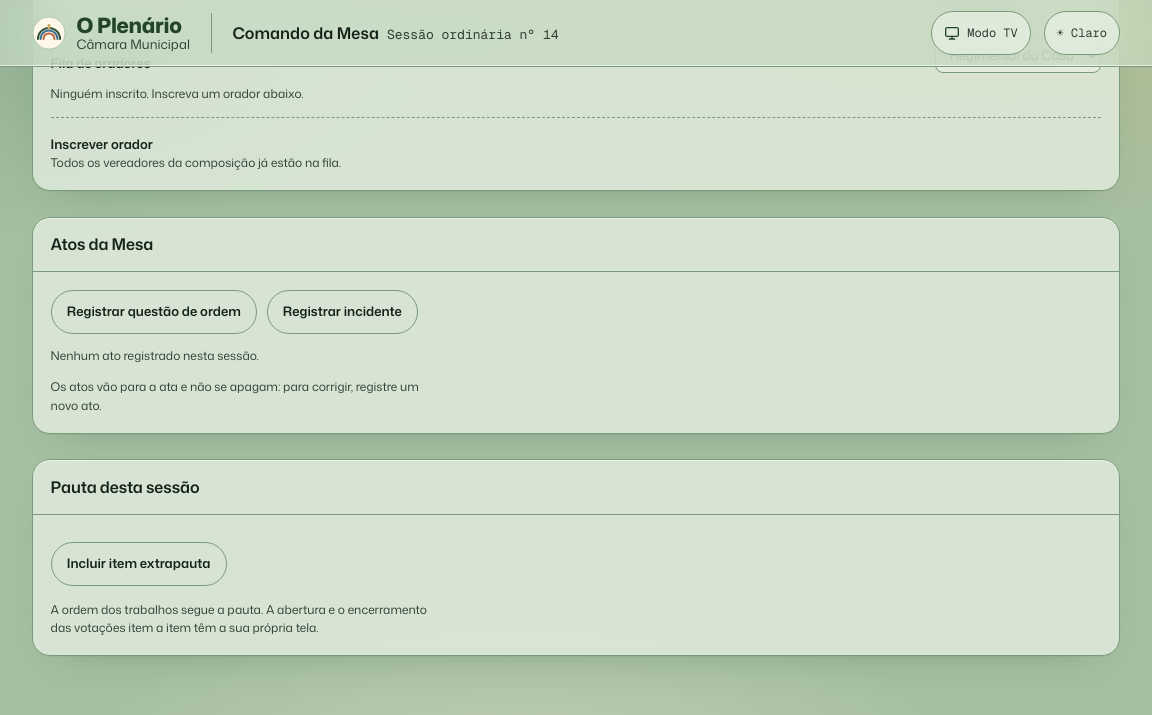
Test: Comando da Mesa — item extrapauta (docs/23) › sessão aberta: inclui um item de texto extrapauta na ordem do dia e avisa
(page scrolled)
Click the button "Incluir item extrapauta" at (139,564), box [51, 542, 227, 586]
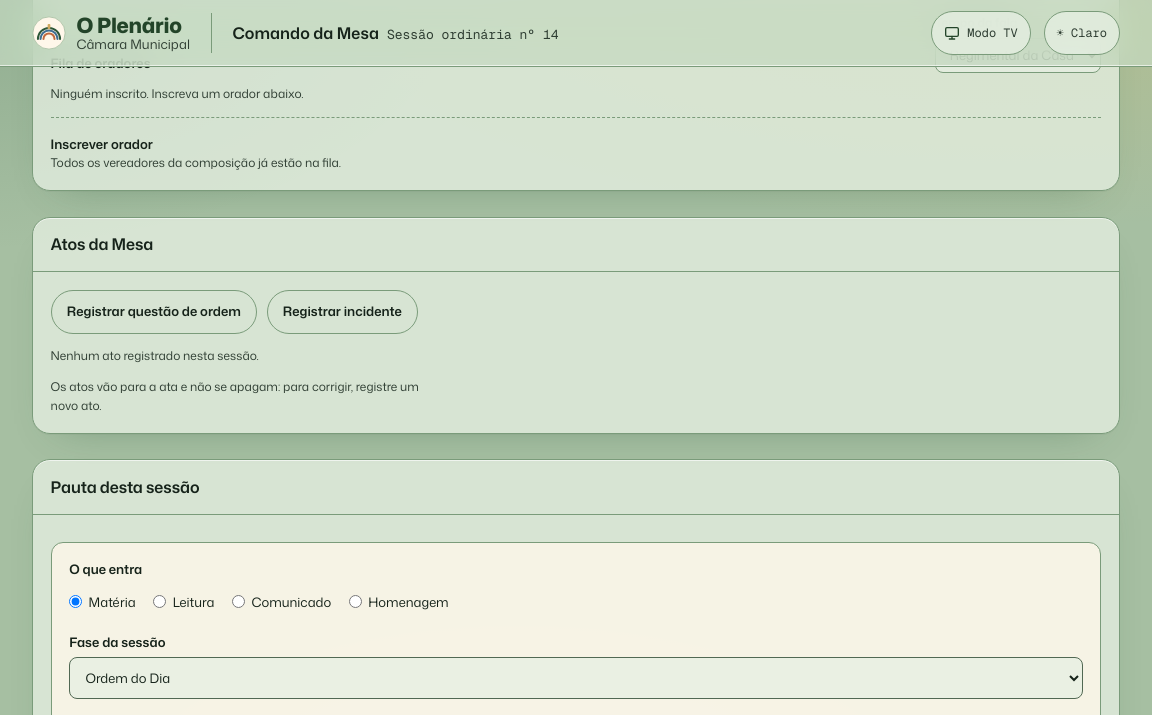
Click the radio button labelled "Homenagem" at (355,602), box [349, 595, 362, 608]
(page scrolled)
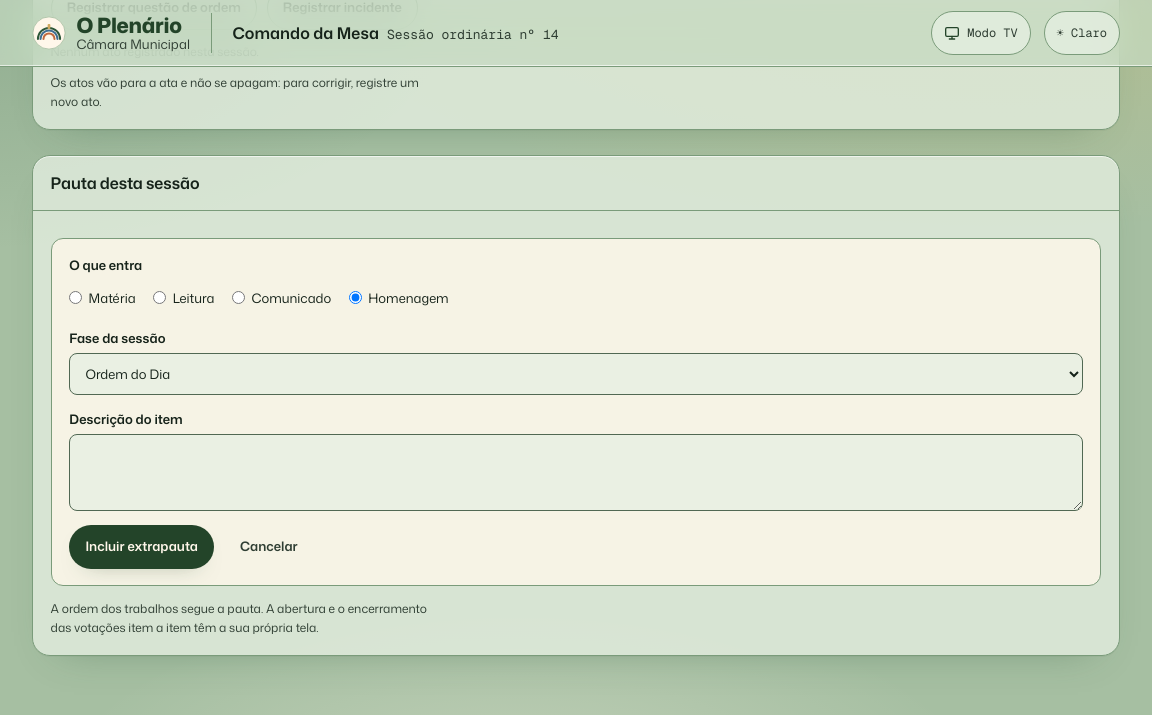
Type "Homenagem aos 100 anos da escola" into the text box labelled "Descrição do item" at (576,472), box [69, 434, 1083, 510]
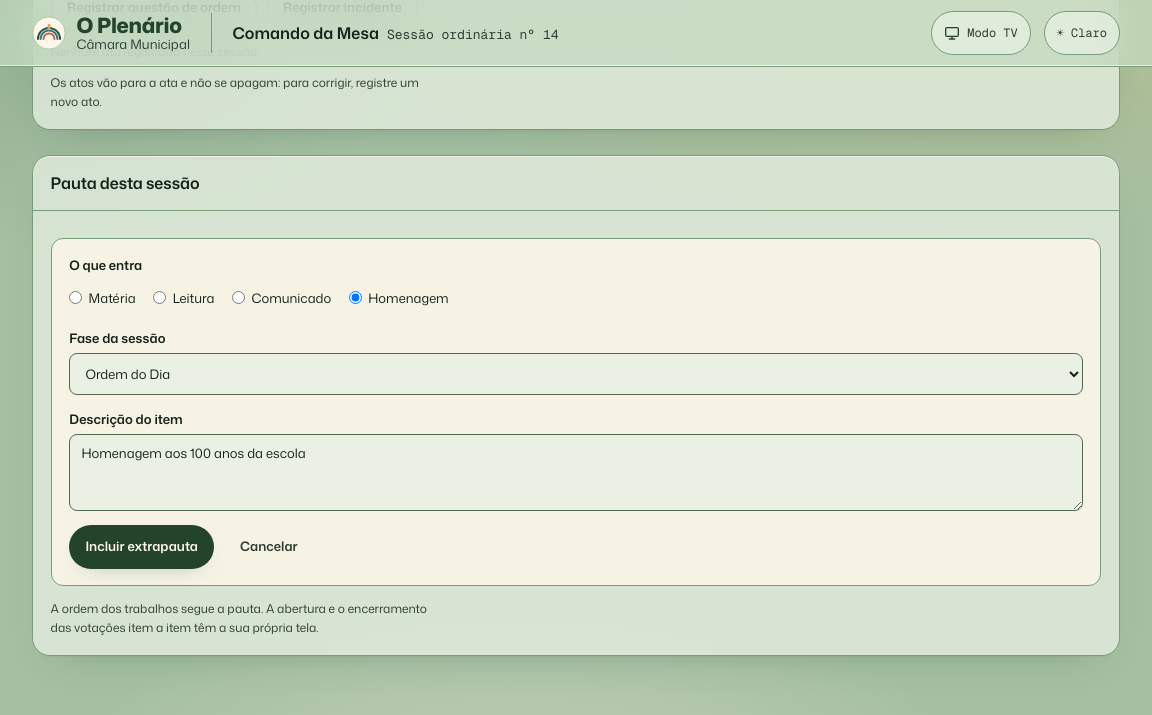
Click the button "Incluir extrapauta" at (142,547), box [69, 525, 214, 569]
(page scrolled)
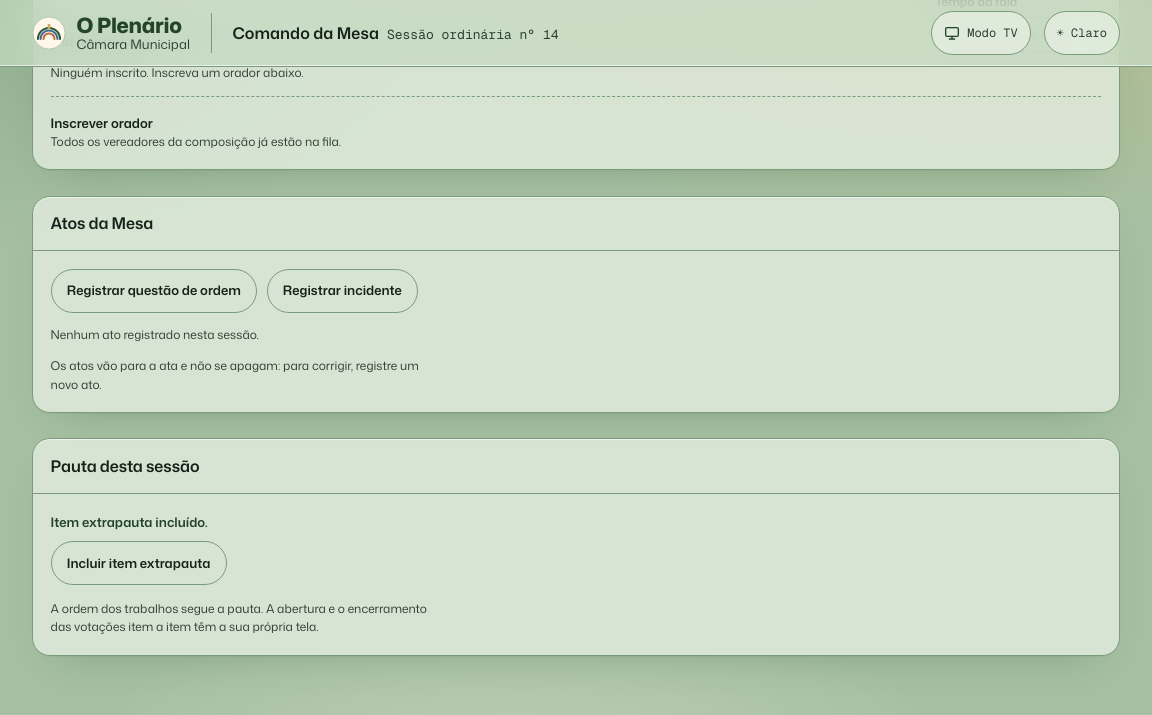
Now the text "Item extrapauta incluído." is shown, box [51, 512, 208, 532]
Now the label labelled "Descrição do item" is gone
